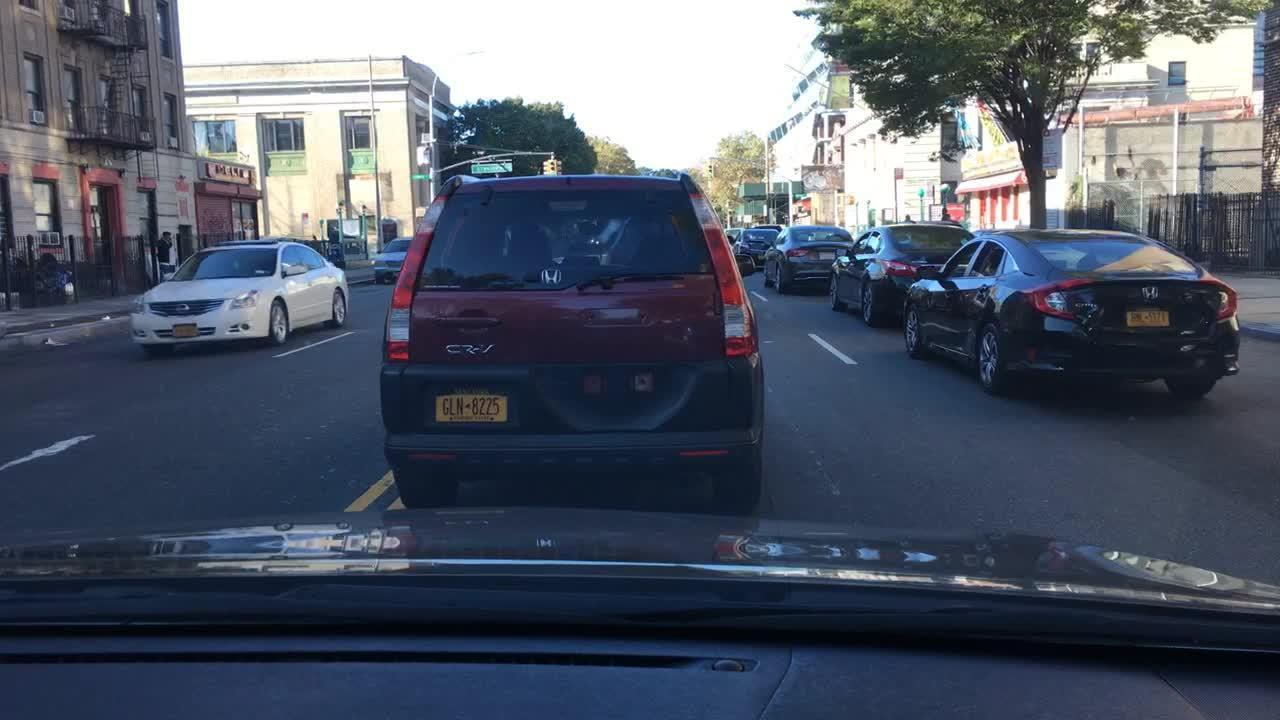Honda: (535, 262, 570, 289), (1136, 279, 1166, 307)
Nissan: (168, 300, 197, 316)
